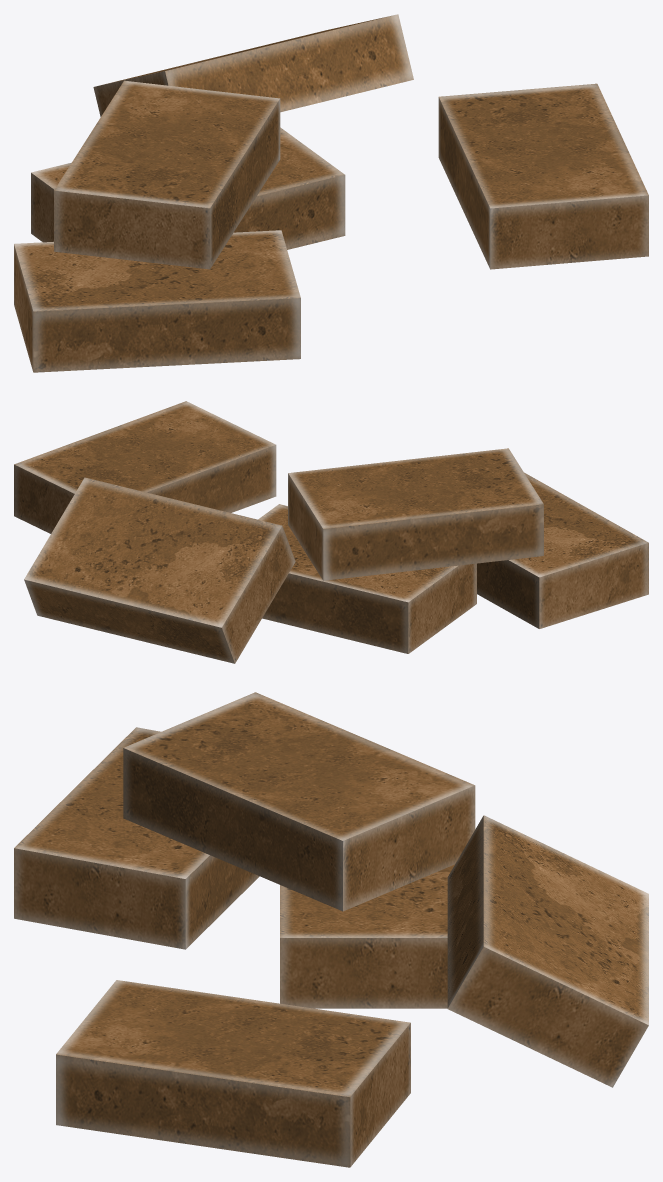
Rendered from brick.fbx.
The picture shows the model from 3 angles, top to bottom: view 1: azimuth 30°, elevation 25°; view 2: azimuth 150°, elevation 25°; view 3: azimuth 270°, elevation 25°; orthographic projection. The views are drawn at different scales.
Visible parts, largest first — view 1: pCube5, pCube4, pCube6, pCube3, pCube1; view 2: pCube3, pCube5, pCube6, pCube4, pCube1; view 3: pCube6, pCube5, pCube3, pCube4, pCube1.
Boxes of the visible parts, <box> form: pCube5: <box>54,80,280,269</box>; pCube4: <box>14,230,300,372</box>; pCube6: <box>438,83,648,269</box>; pCube3: <box>93,14,413,116</box>; pCube1: <box>31,127,345,249</box>; pCube3: <box>24,477,295,663</box>; pCube5: <box>288,448,543,580</box>; pCube6: <box>14,401,276,533</box>; pCube4: <box>477,472,648,628</box>; pCube1: <box>258,504,476,653</box>; pCube6: <box>56,980,410,1167</box>; pCube5: <box>123,692,475,911</box>; pCube3: <box>447,815,648,1087</box>; pCube4: <box>14,727,259,949</box>; pCube1: <box>280,864,454,1008</box>.
Bounding box in the file's own units: 5.63 × 1.04 × 4.08.
